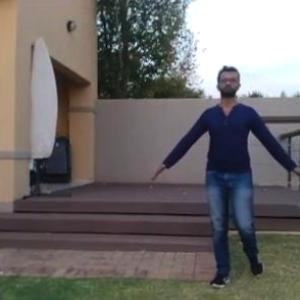land: (157, 73, 295, 282)
